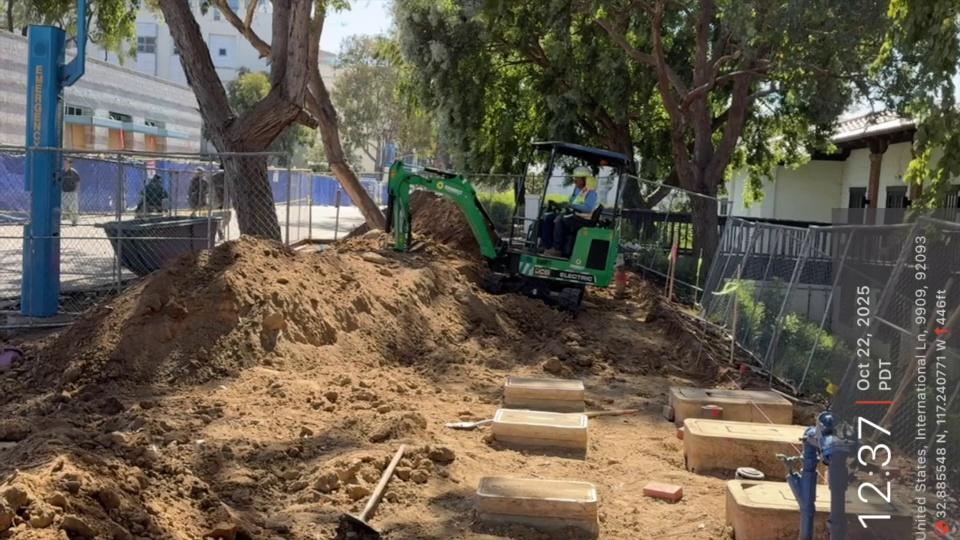Exacavator: (382, 138, 631, 316)
